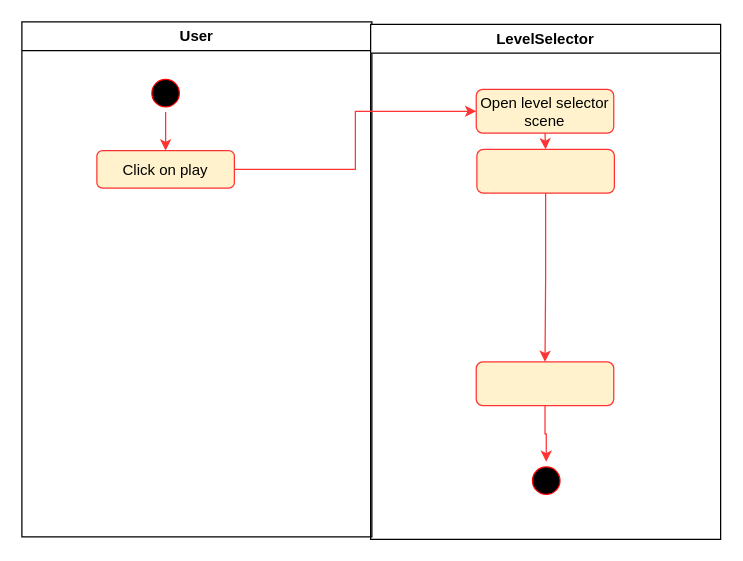
Some shapes in this 743 by 561 pixel diagram are drawn without their labels. The shapes that lost their labels are listed below. From the top down, each one's centre as x and y in pixels, then its label:
At [545,170]: "Get number of levels".
At [544,383]: "draw each level on the panel".
